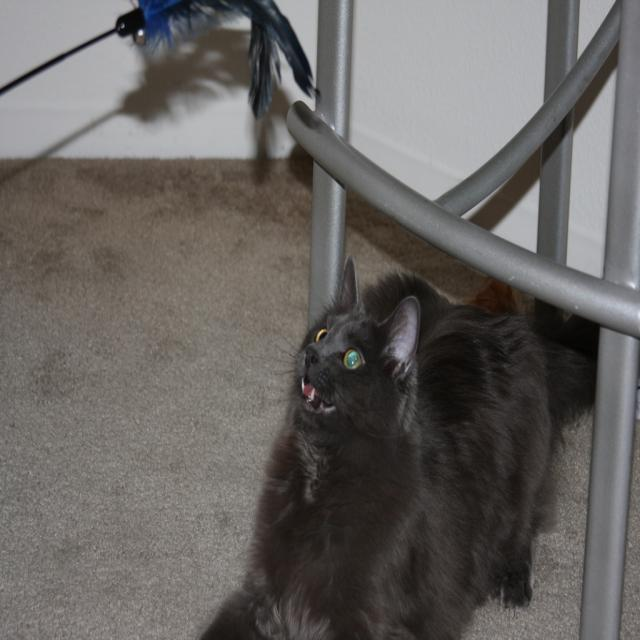Cat: (200, 248, 600, 638)
